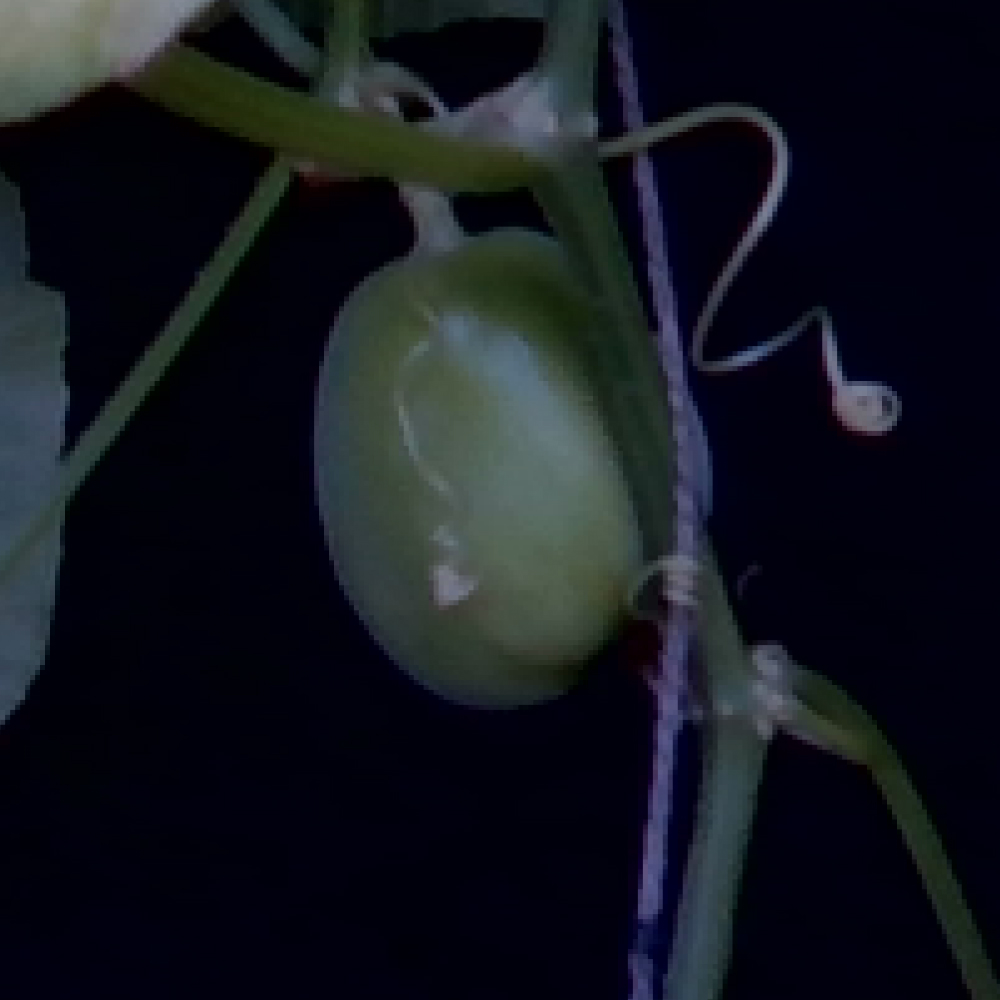melon: (306, 224, 722, 710)
